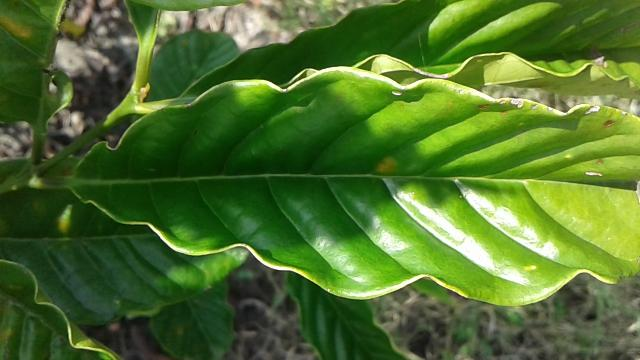rust_level_1: (66, 60, 640, 312)
